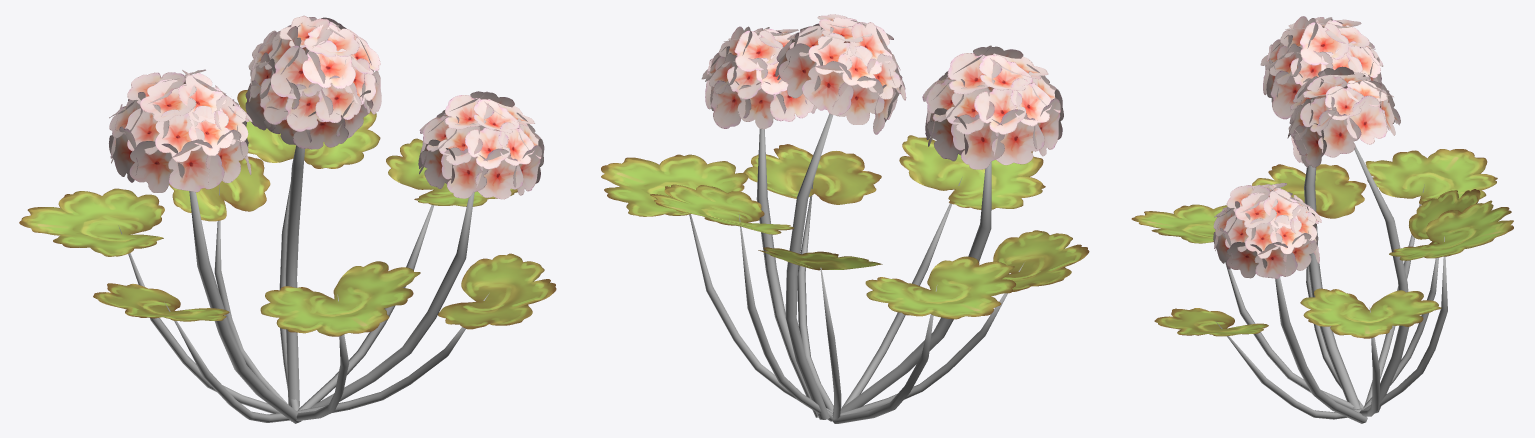
Rendered from geranium.fbx.
3 views of the same model, side by side, from view 1: azimuth 30°, elevation 25°; view 2: azimuth 150°, elevation 25°; view 3: azimuth 270°, elevation 25° (orthographic). The views are drawn at different scales.
Visible parts, largest first — view 1: geranium; view 2: geranium; view 3: geranium.
Part boxes in pixels (x1,y1,x2,y2): geranium: (19, 15, 556, 423); geranium: (601, 14, 1089, 423); geranium: (1131, 16, 1513, 423).
Size of the model in its own units: 73.7 by 61.27 by 63.04.
